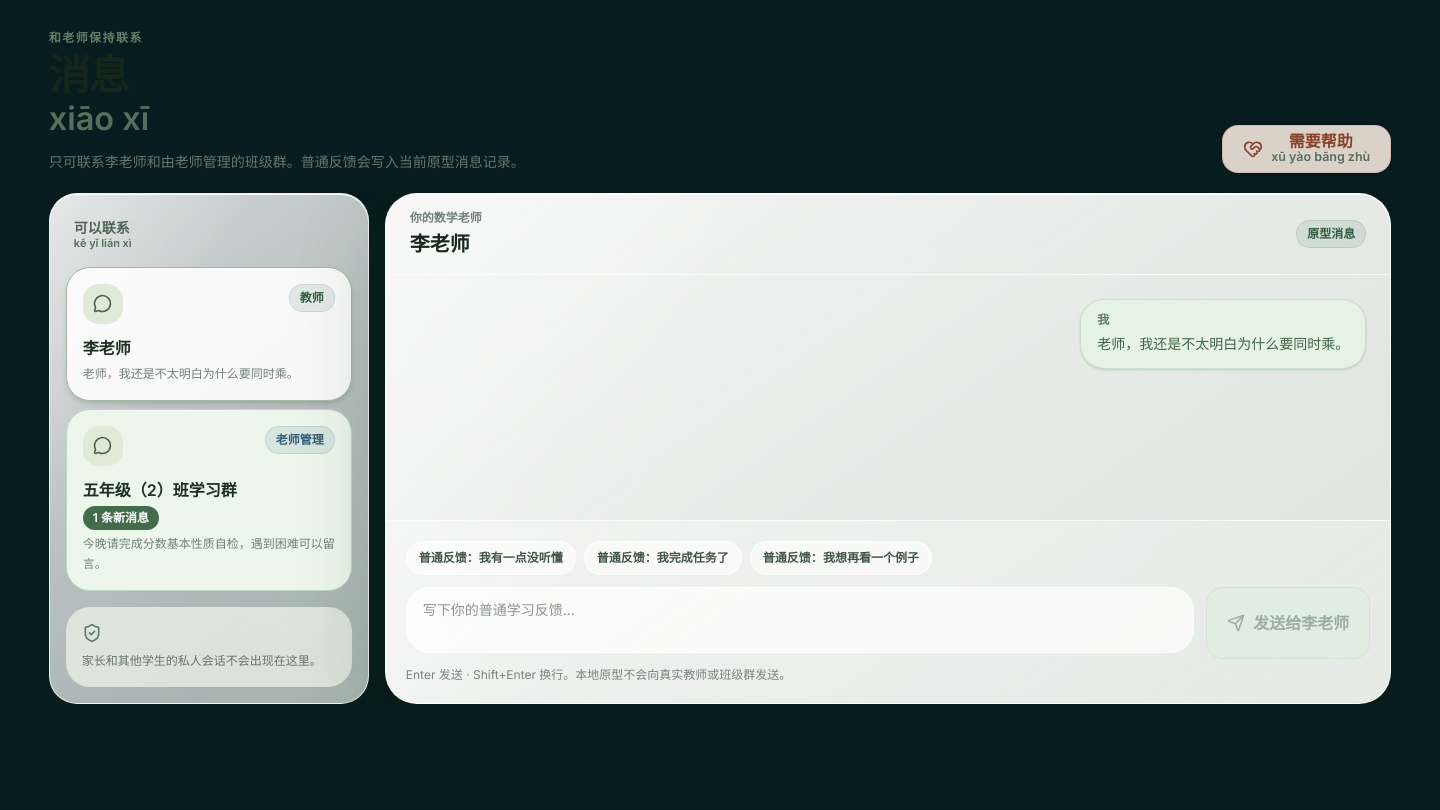
Test: StudentMessagesPage › only exposes the teacher and teacher-managed class group and sends ordinary feedback
Check: the heading "消息 xiāo xī" is shown, box [49,50,149,138]
Check: the button with aria-label "打开李老师会话" is shown, box [66,267,352,401]
Click the button "普通反馈：我有一点没听懂" at (491,558), box [406,541,576,575]
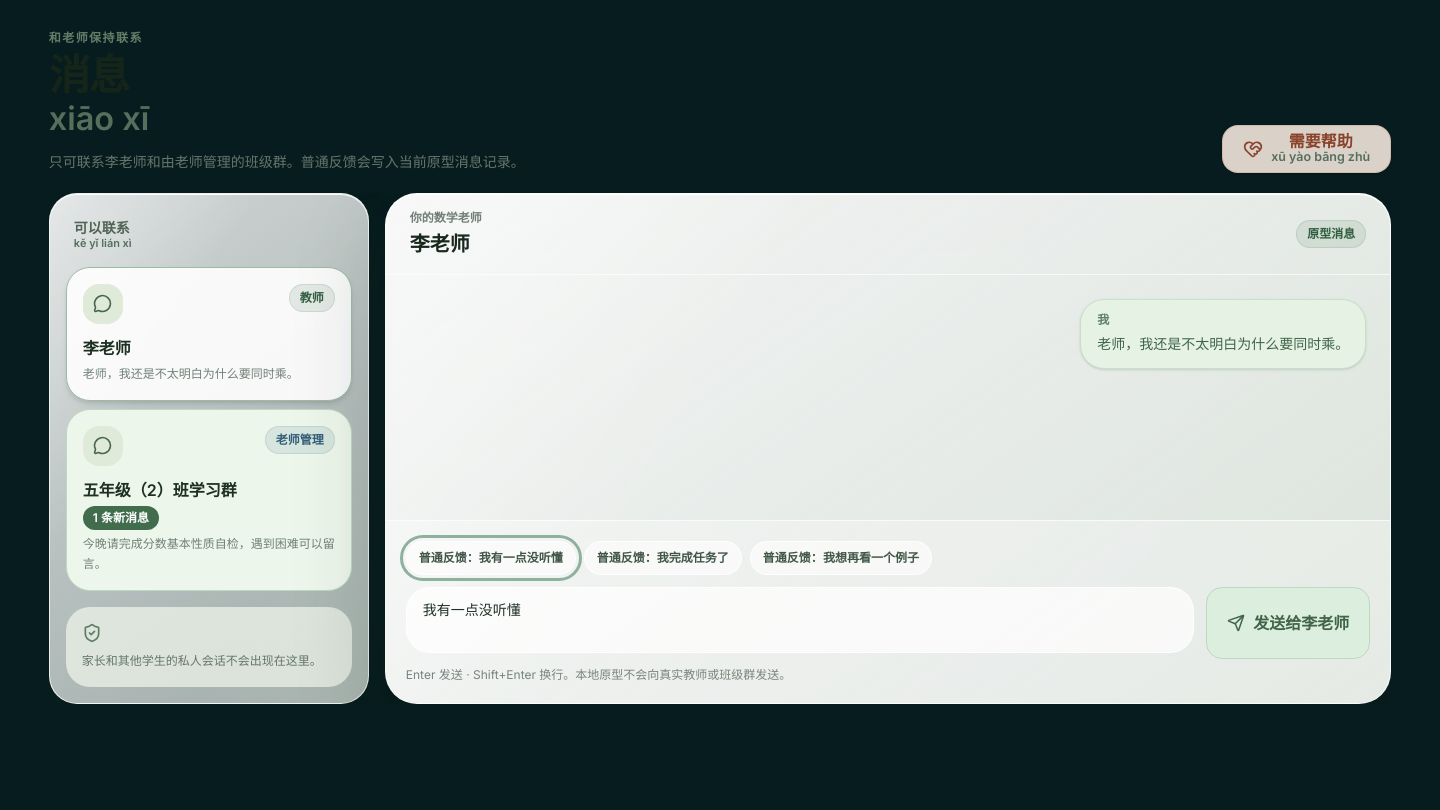
Check: the text box named "给李老师留言" holds "我有一点没听懂"
Click the text box named "给李老师留言" at (800,620), box [406,587,1194,653]
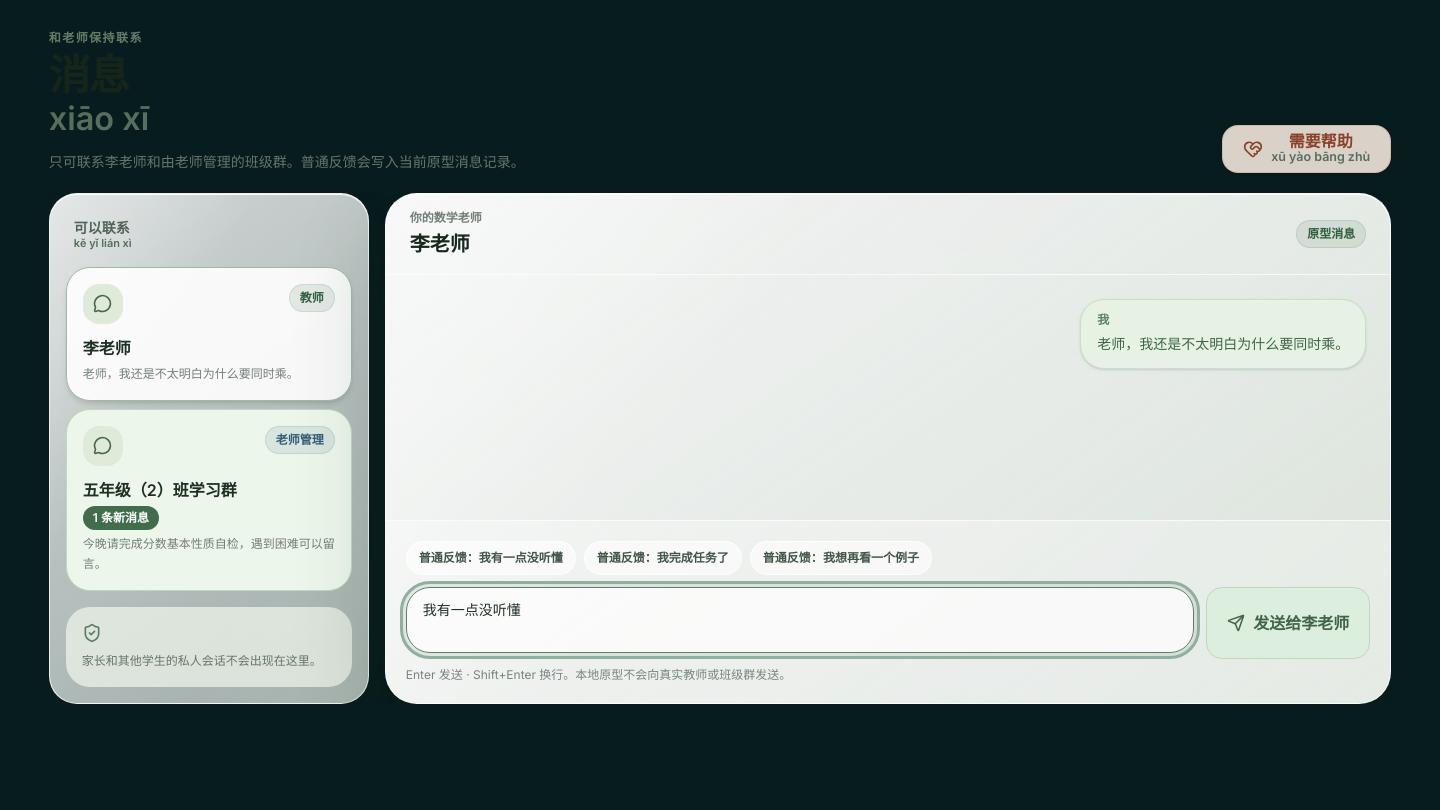
Press Enter
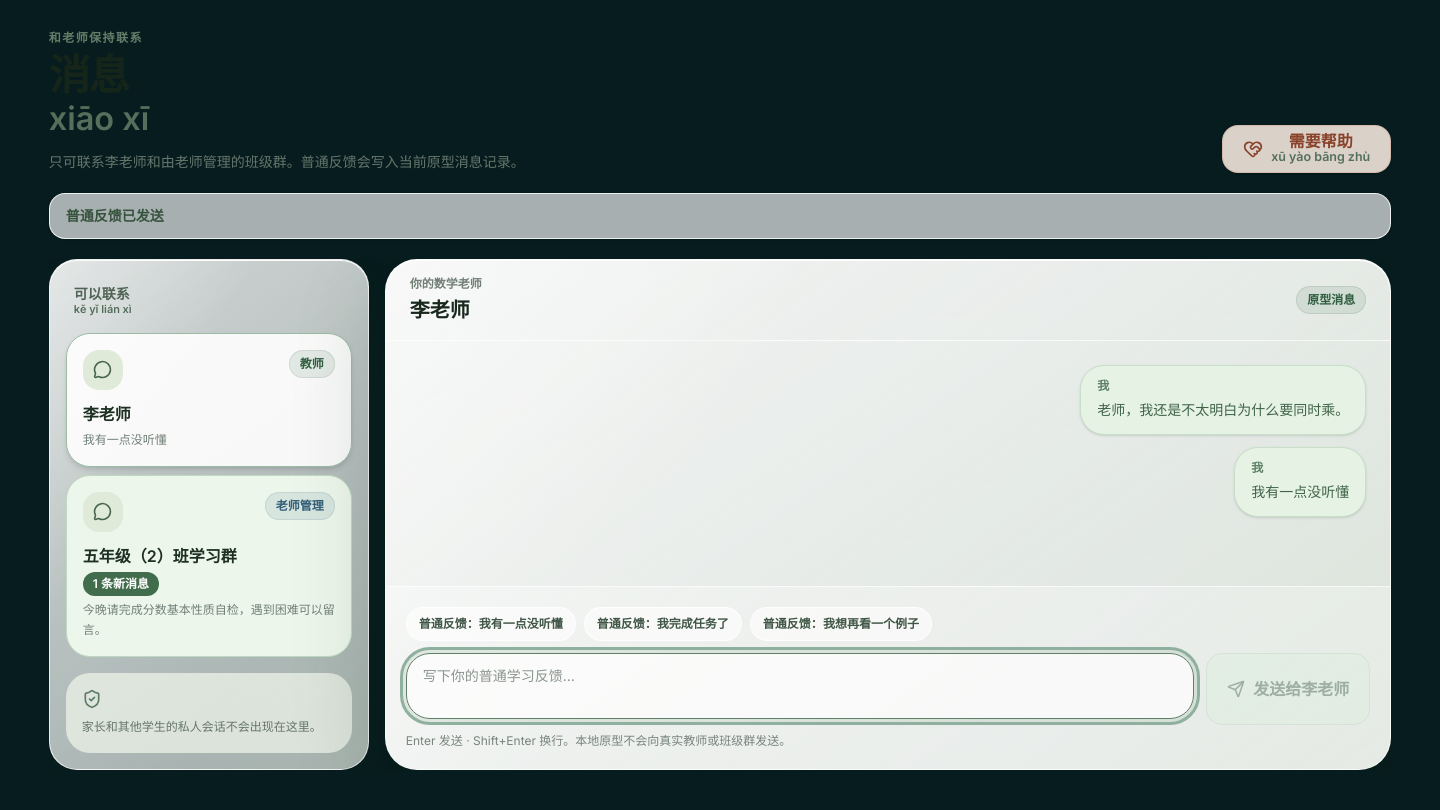
Check: the 1st text "我" is shown, box [1097,378,1109,393]
Check: the text "我有一点没听懂" below "老师，我还是不太明白为什么要同时乘。" is shown, box [1251,483,1349,500]
Check: the message reads "普通反馈已发送", box [66,207,164,224]
